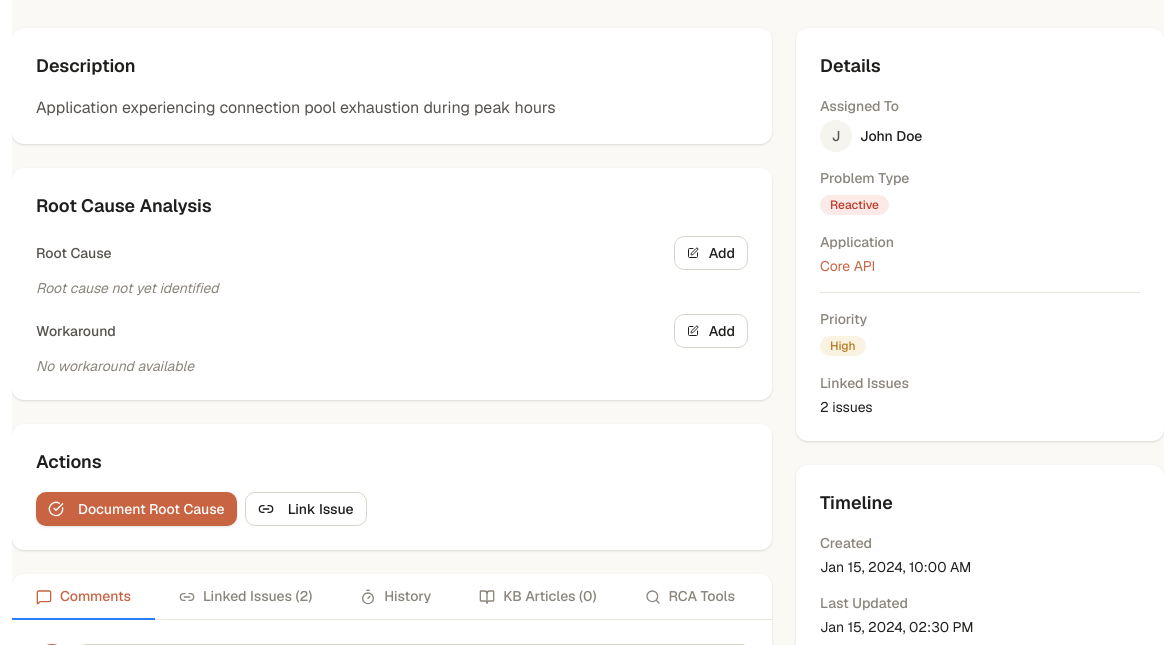
Test: ProblemDetailPage › Tabs Navigation › switches to issues tab when clicked
Click the button "Linked Issues (2)" at (246, 597), box [155,574,336,620]
(page scrolled)
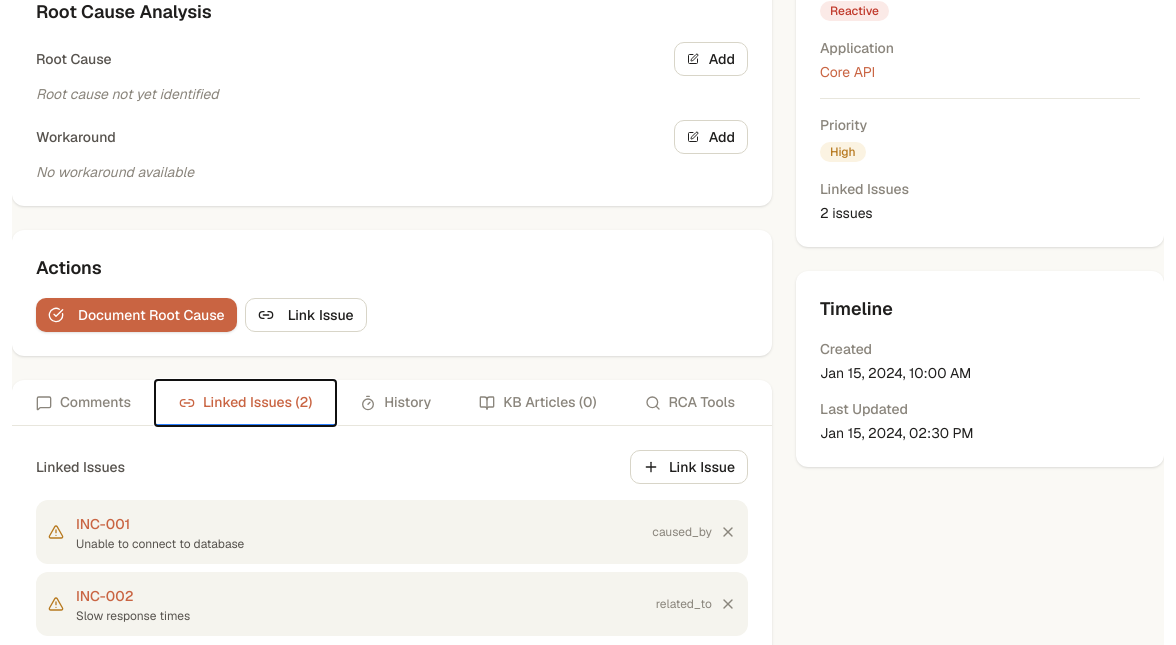
Expected: the link "INC-001" is shown, [76,515,130,533]
Expected: the text "caused_by" is shown, [652,524,712,540]
